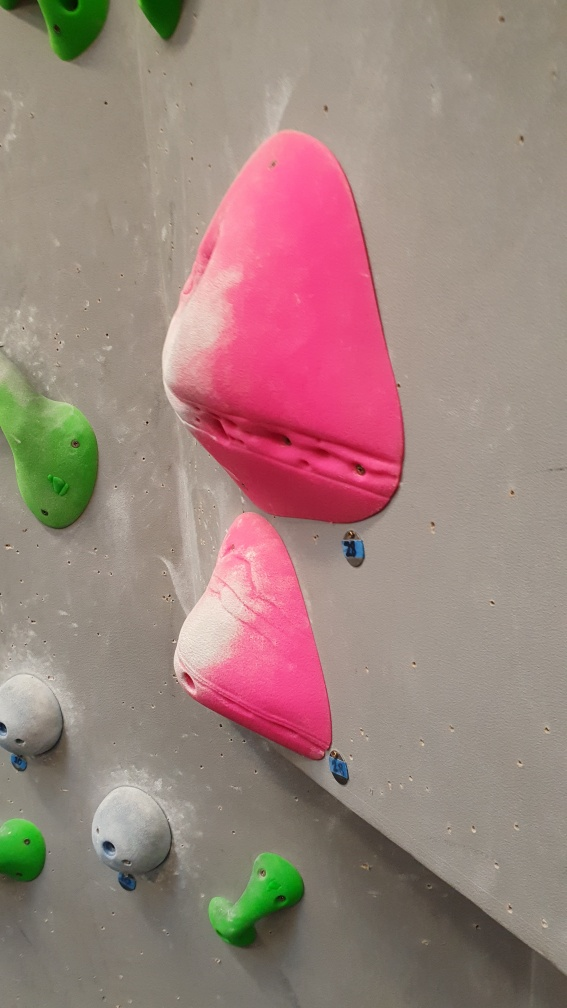Hand Start: (333, 523, 367, 572), (325, 746, 353, 786), (114, 866, 142, 899), (5, 751, 31, 775)
Sloper: (90, 779, 173, 873), (1, 668, 66, 762)
